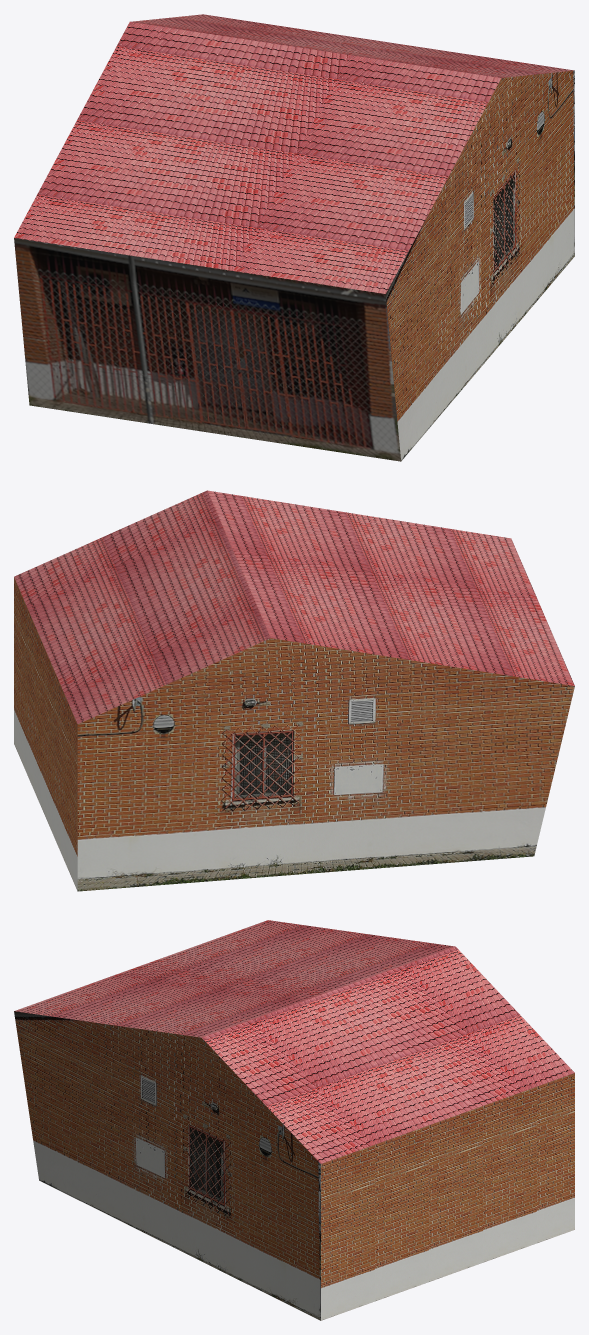
The model's file is Lecu_radios.gltf.
3 views of the same model, one above another, from view 1: azimuth 30°, elevation 25°; view 2: azimuth 150°, elevation 25°; view 3: azimuth 270°, elevation 25° (orthographic). The views are drawn at different scales.
Parts seen in each view (by area): view 1: radio; view 2: radio; view 3: radio.
Boxes of the visible parts, x1,y1,x2,y2 form: radio: (14,14,574,461); radio: (14,490,574,891); radio: (14,920,574,1320).
Size of the model in its own units: 10.78 by 4.61 by 10.47.
